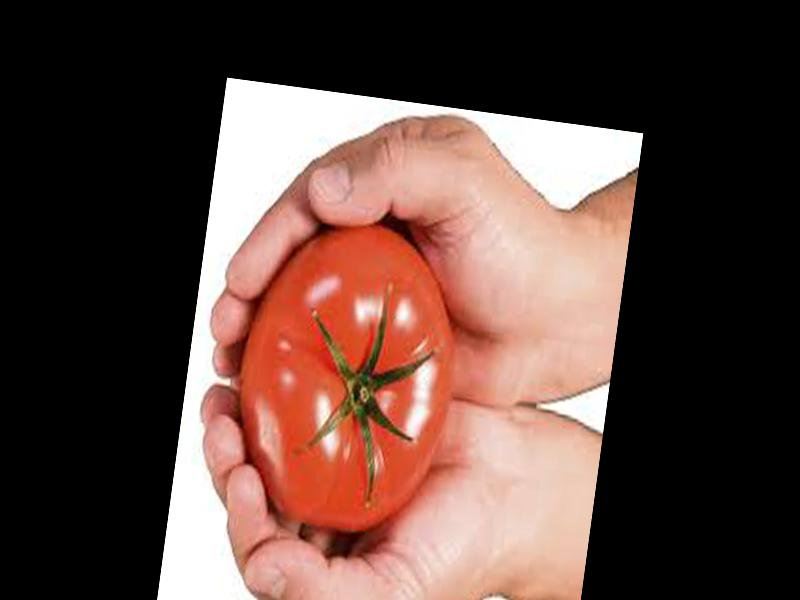Tomato: (224, 209, 469, 544)
